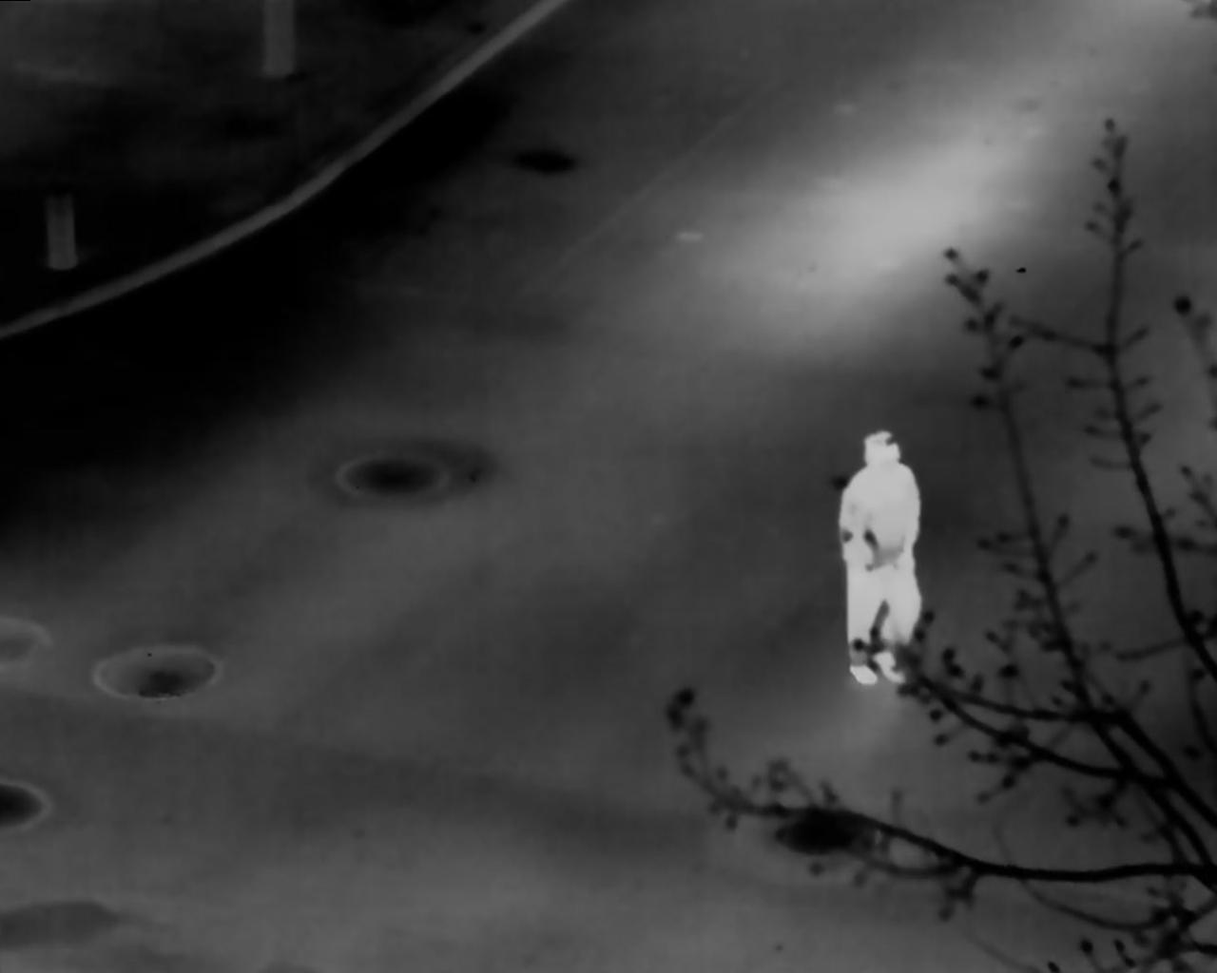person: (837, 429, 923, 688)
